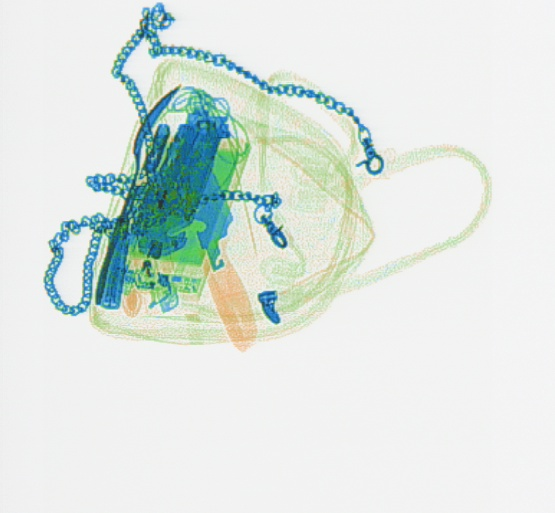knife: (165, 137, 257, 347), (123, 104, 227, 256)
lighter: (139, 215, 181, 313)
